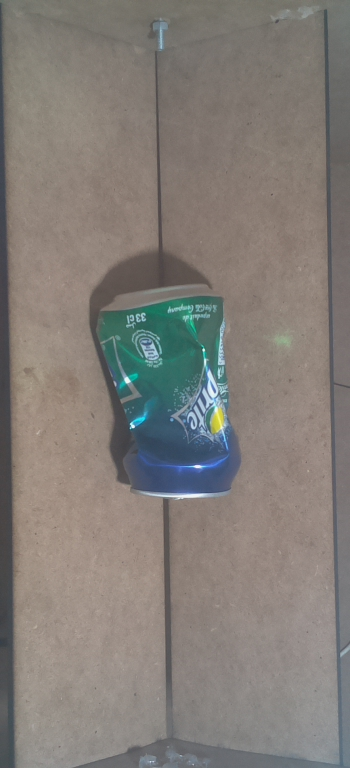Canette: (90, 278, 252, 509)
